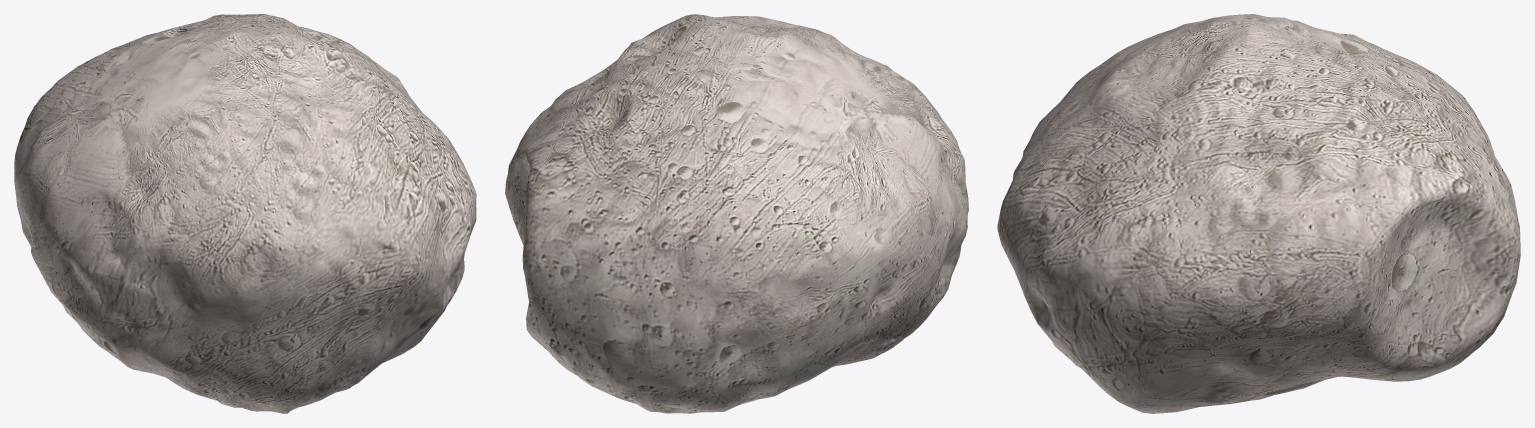
File: phobos.gltf
The picture shows the model from 3 angles, left to right: view 1: azimuth 30°, elevation 25°; view 2: azimuth 150°, elevation 25°; view 3: azimuth 270°, elevation 25°; orthographic projection. The views are drawn at different scales.
Visible parts, largest first — view 1: Phobos Gaskell 50k poly; view 2: Phobos Gaskell 50k poly; view 3: Phobos Gaskell 50k poly.
Boxes of the visible parts, box(x1,y1,x2,y2) form: Phobos Gaskell 50k poly: box(14, 14, 476, 413); Phobos Gaskell 50k poly: box(505, 14, 968, 413); Phobos Gaskell 50k poly: box(997, 14, 1520, 413).
Size of the model in its own units: 23.33 by 19.63 by 26.17.
1 material, 1 textured.
